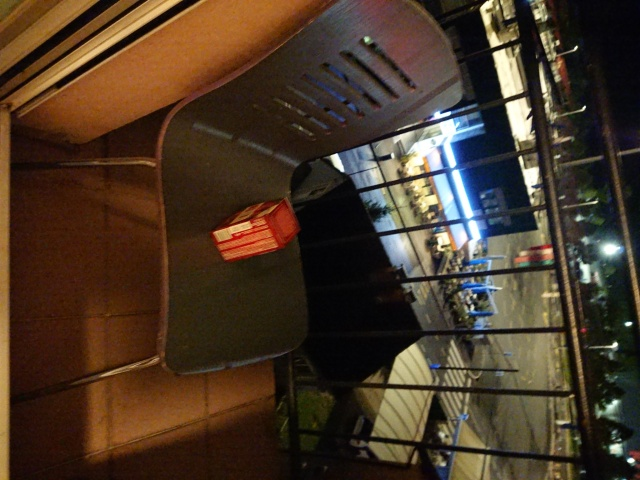Franck Apple Cinnamon Tea 60g: (207, 193, 304, 266)
